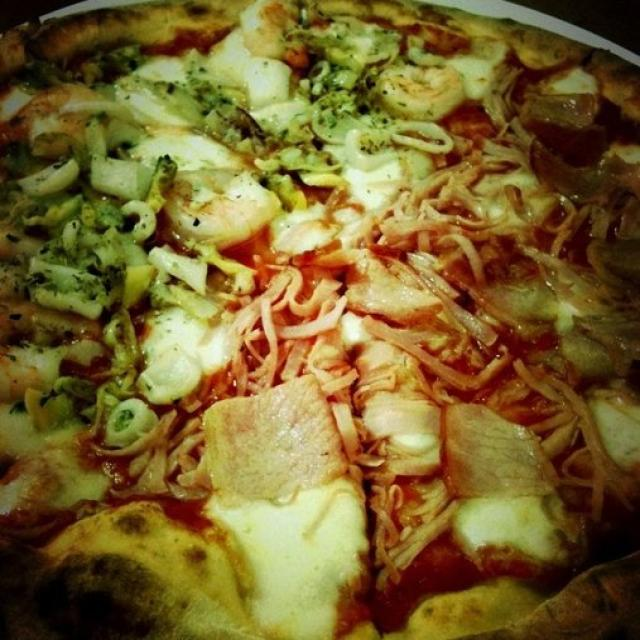Cheese: (206, 484, 369, 636), (453, 492, 572, 564), (215, 35, 302, 103), (141, 116, 242, 174)
Pizza: (0, 0, 640, 640)
